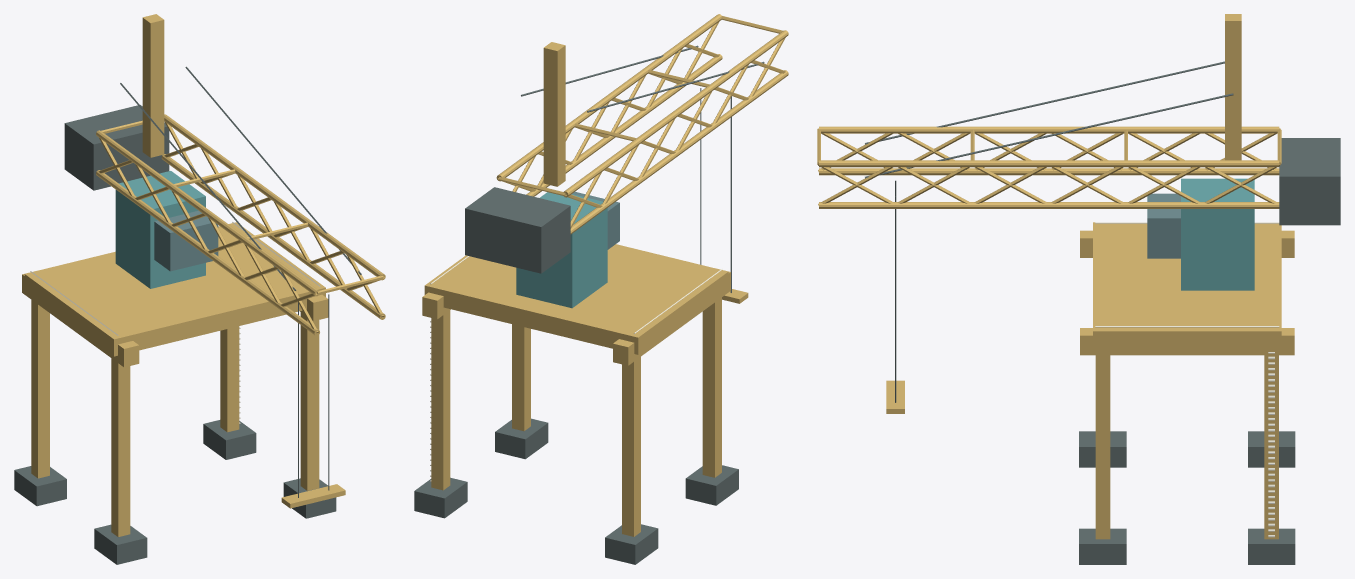
3 views of the same model, side by side, from view 1: azimuth 30°, elevation 25°; view 2: azimuth 150°, elevation 25°; view 3: azimuth 270°, elevation 25° (orthographic). The views are drawn at different scales.
Bounding box in the file's own units: 17.4 × 35.3 × 34.11.
